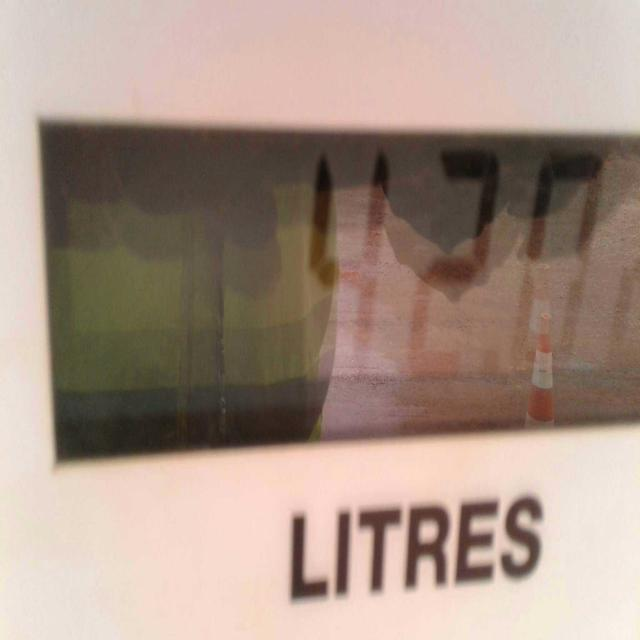.: (479, 332, 522, 409)
0: (509, 152, 613, 401)
2: (403, 152, 496, 392)
4: (303, 162, 387, 408)
